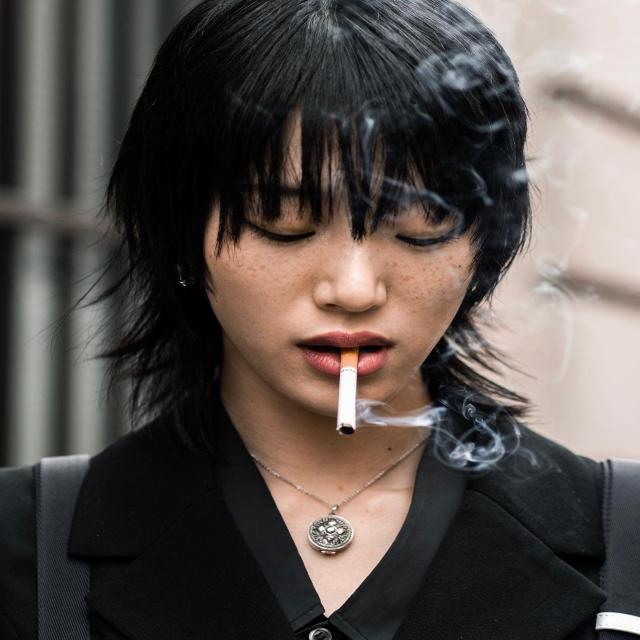cigarette: (332, 339, 362, 455)
